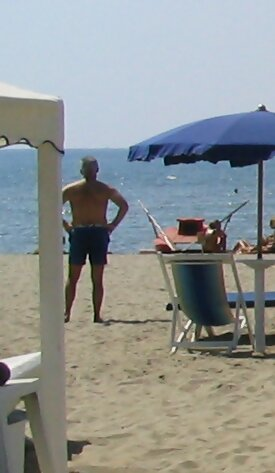person: (54, 156, 130, 325)
